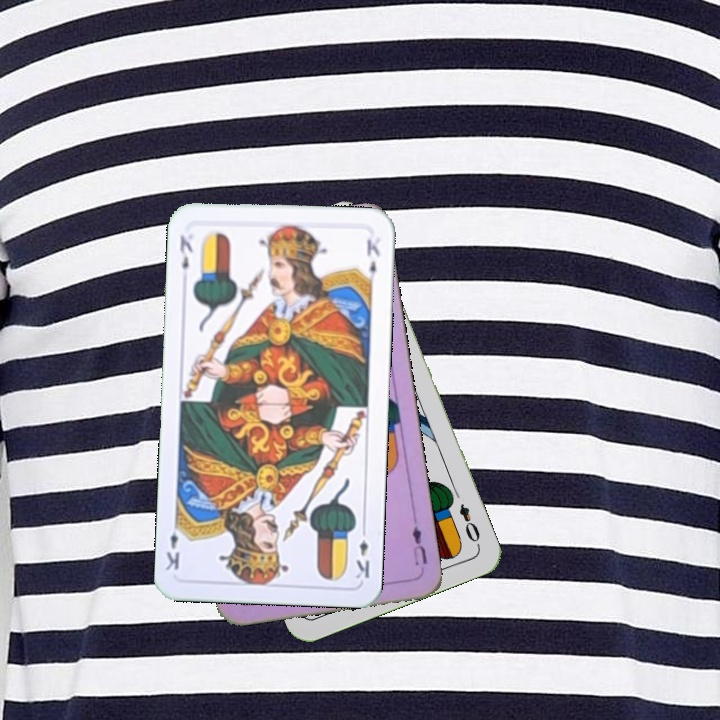EK: (352, 522, 372, 581), (175, 231, 195, 272)
EO: (455, 499, 483, 545)
EU: (407, 522, 430, 568)
